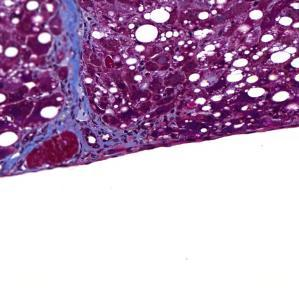fibrosis: (49, 14, 94, 116), (28, 109, 125, 146)
